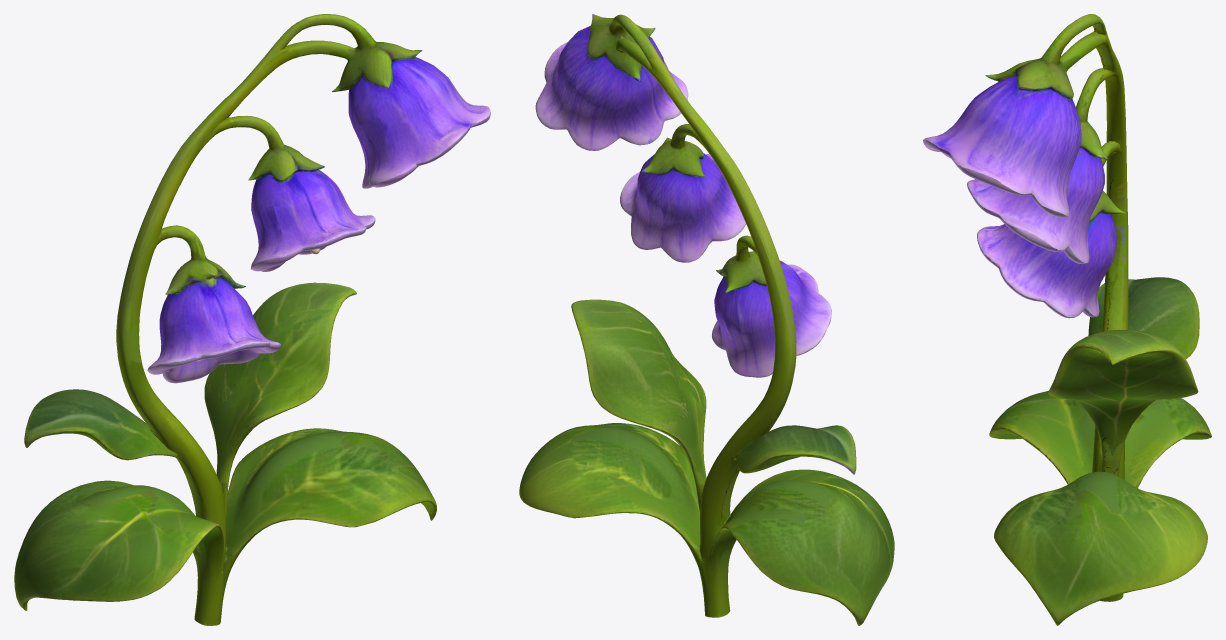
File: bluebell.glb
3 views of the same model, side by side, from view 1: azimuth 30°, elevation 25°; view 2: azimuth 150°, elevation 25°; view 3: azimuth 270°, elevation 25° (orthographic). The views are drawn at different scales.
Visible parts, largest first — view 1: model; view 2: model; view 3: model.
Boxes of the visible parts, x1,y1,x2,y2 form: model: (14, 14, 490, 625); model: (519, 14, 894, 625); model: (923, 14, 1211, 625).
Size of the model in its own units: 1.35 by 1.9 by 0.7865.
1 material, 1 textured.
